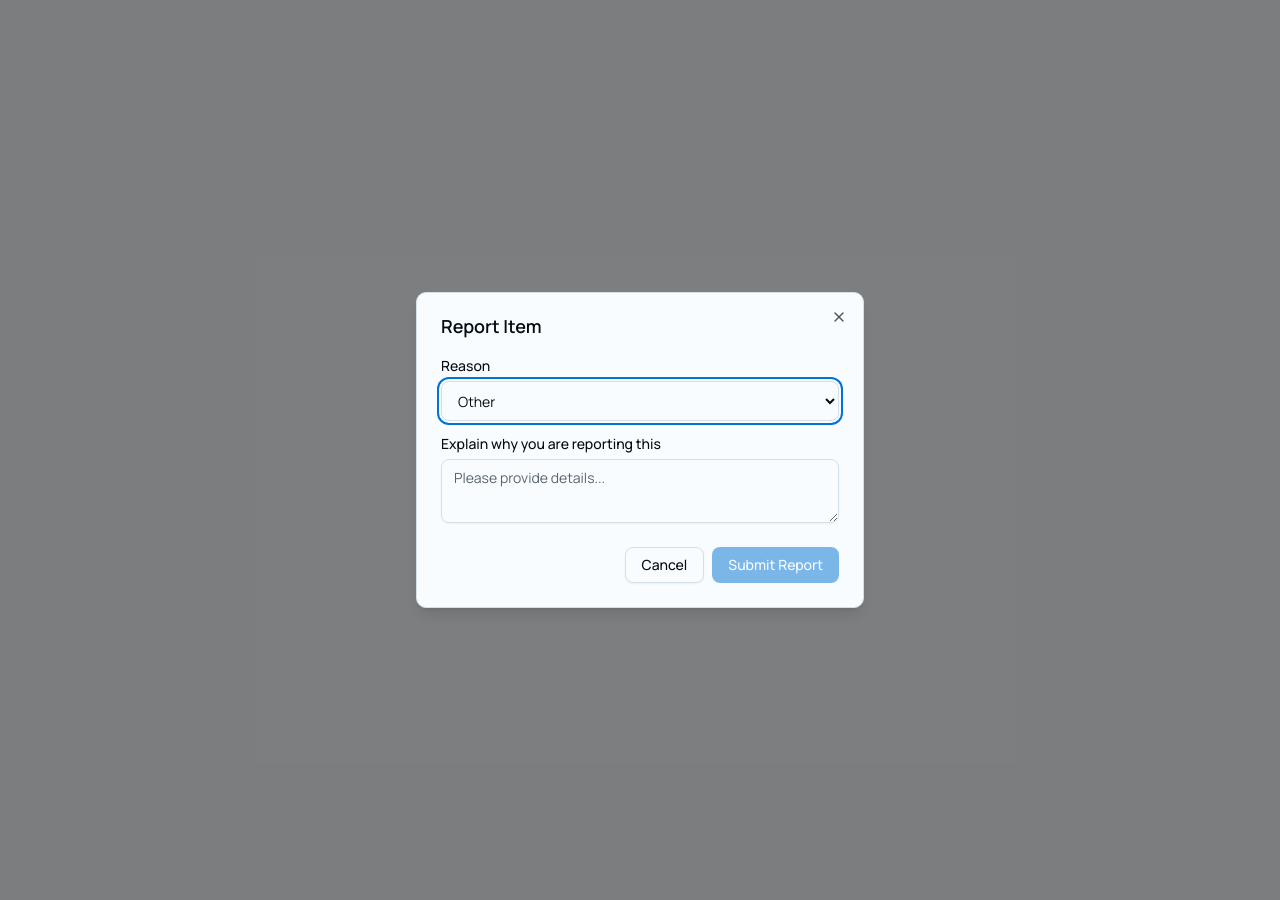
ReportModal › handles submission error
Type "Reason" into the text box. click: x=640, y=491
box: [441,459,839,523]
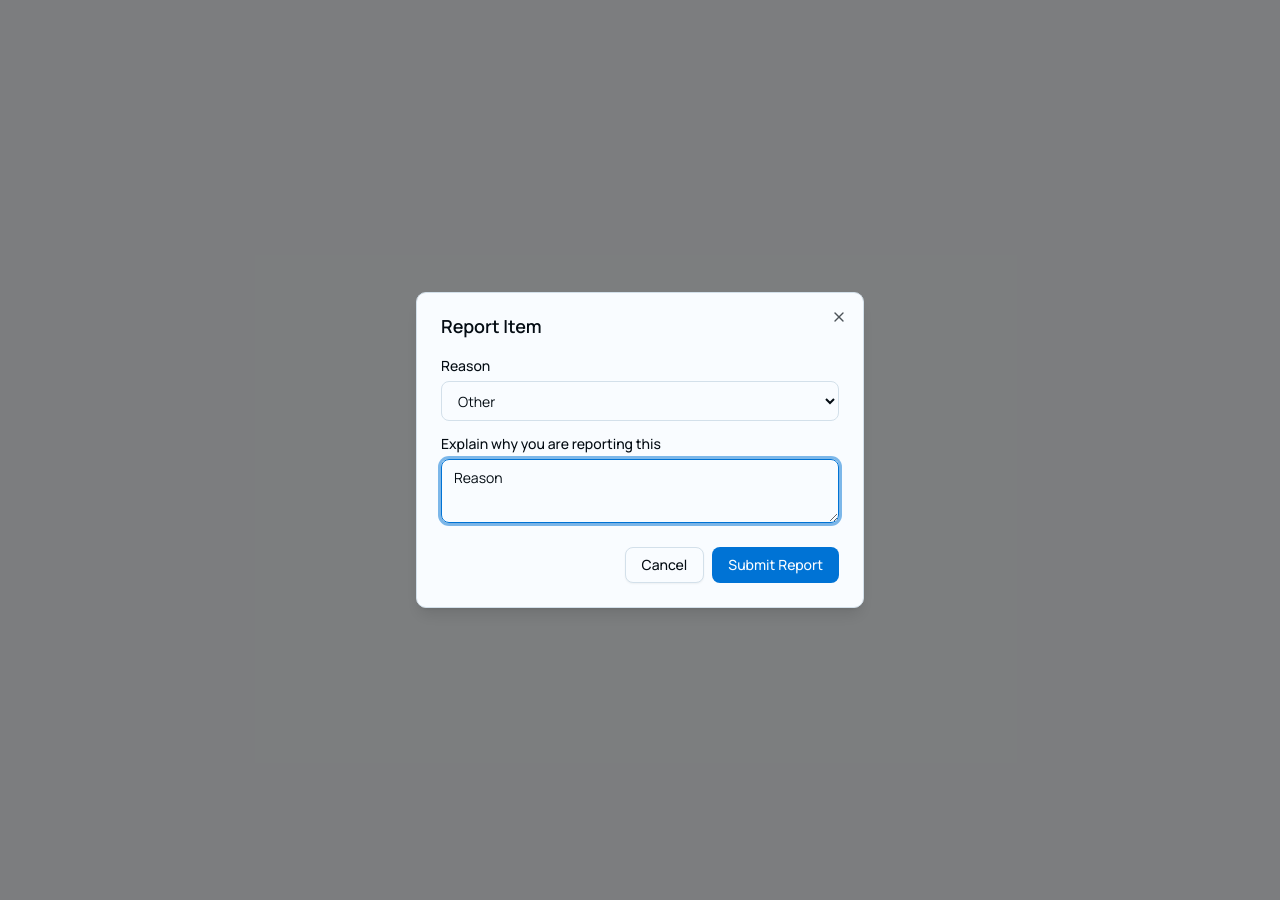
Click the button "Submit Report". click: x=776, y=565
box: [712,547,839,583]
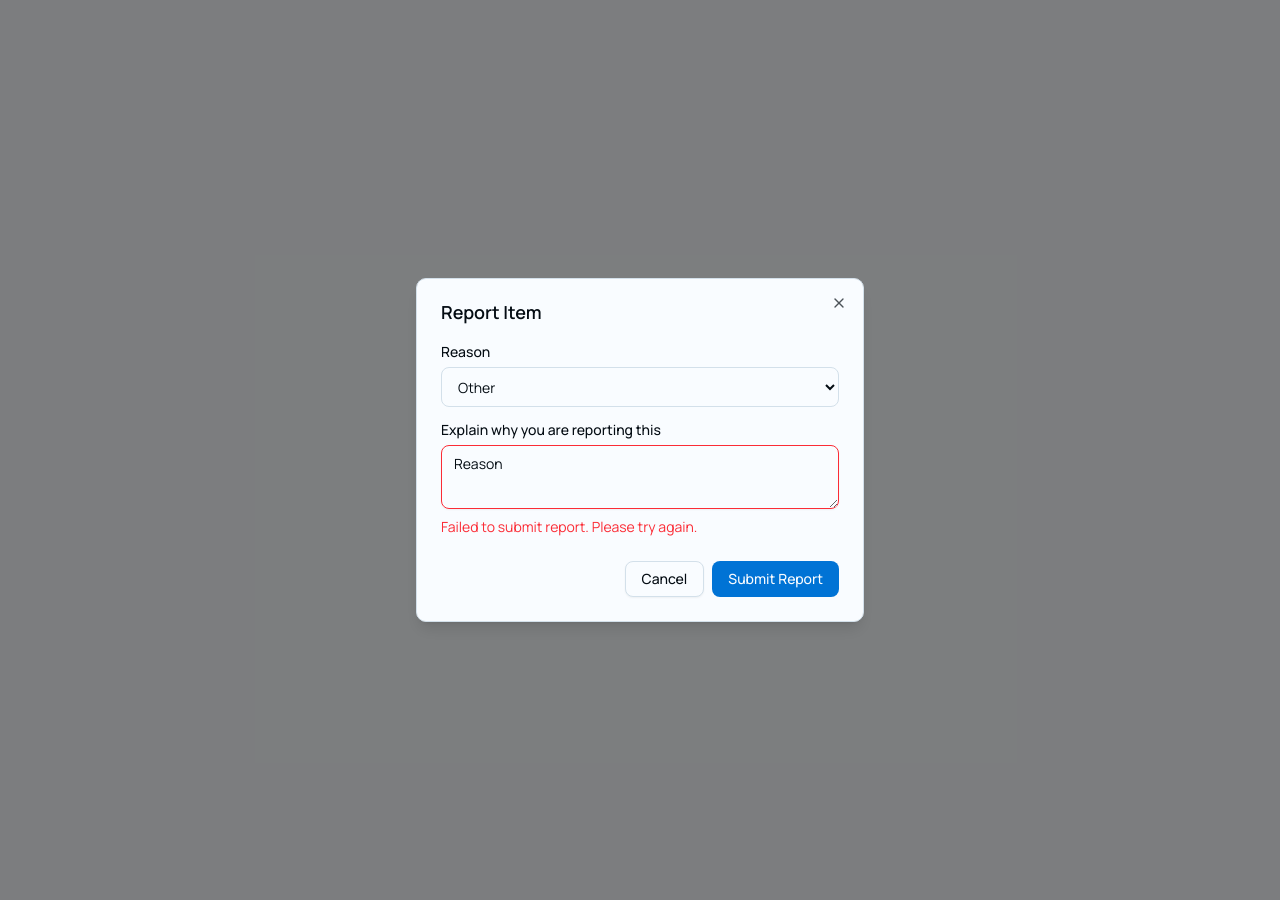
Now the text "Failed to submit report. Please try again." is shown, box [441,517,697,536]
